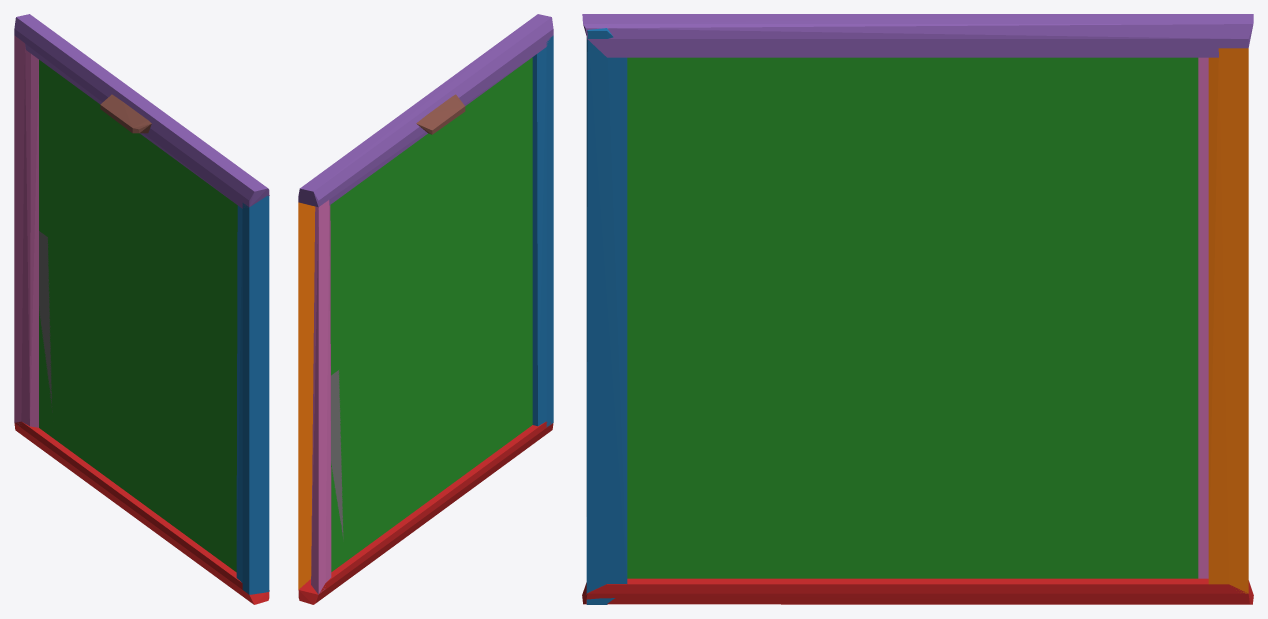
File: Casement_SlidePart_01_cvx.obj
The picture shows the model from 3 angles, left to right: view 1: azimuth 30°, elevation 25°; view 2: azimuth 150°, elevation 25°; view 3: azimuth 270°, elevation 25°; orthographic projection. The views are drawn at different scales.
Visible parts, largest first — view 1: scenes/apartment_0000_coacd/output/Unknown/Casement_SlidePart_01; view 2: scenes/apartment_0000_coacd/output/Unknown/Casement_SlidePart_01; view 3: scenes/apartment_0000_coacd/output/Unknown/Casement_SlidePart_01.
Boxes of the visible parts, <box> form: scenes/apartment_0000_coacd/output/Unknown/Casement_SlidePart_01: <box>14,14,269,604</box>; scenes/apartment_0000_coacd/output/Unknown/Casement_SlidePart_01: <box>298,14,553,604</box>; scenes/apartment_0000_coacd/output/Unknown/Casement_SlidePart_01: <box>582,14,1253,604</box>.
Size of the model in its own units: 0.2953 by 3.4 by 3.56.
